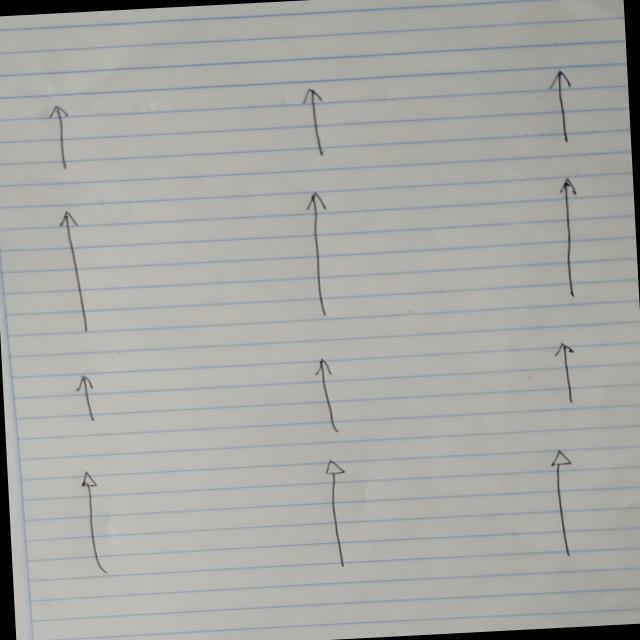arrow_line_up: (54, 207, 99, 337), (302, 190, 338, 318), (554, 175, 588, 304), (76, 469, 114, 577), (322, 460, 356, 570), (548, 446, 578, 559), (545, 68, 581, 146), (312, 356, 345, 436), (300, 86, 333, 158), (44, 104, 78, 173), (551, 341, 579, 407), (72, 374, 101, 426)
